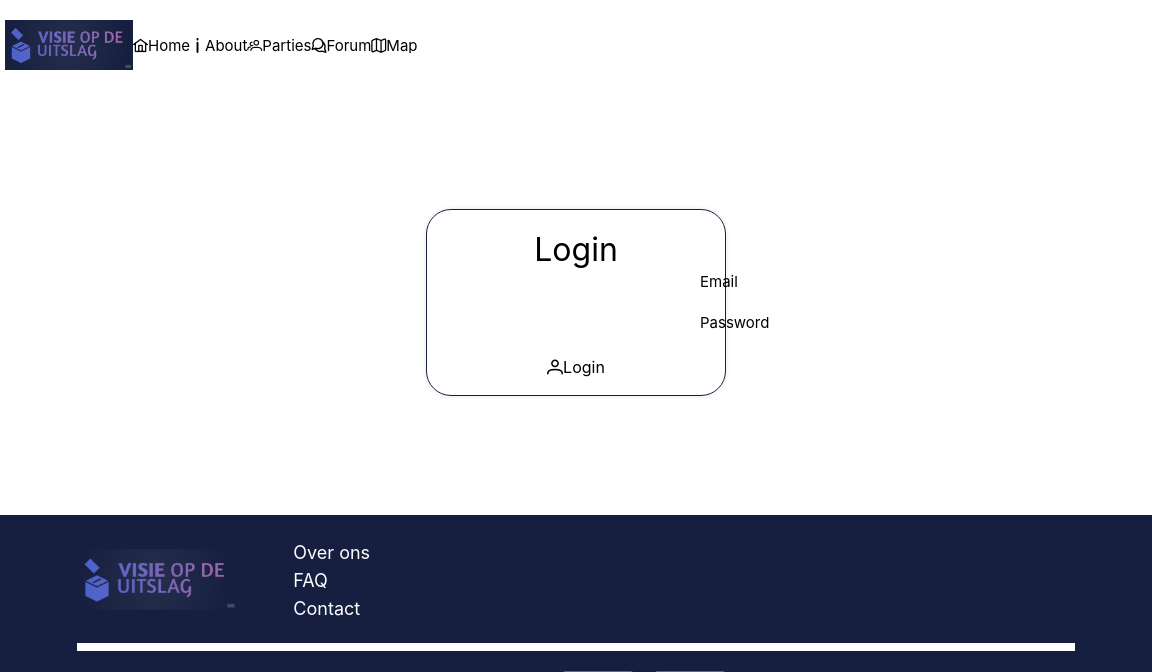
login page › should show a warning toast for unconfirmed accounts
The width and height of the screenshot is (1152, 672).
Type "nobody@example.com" into the field with test id "loginEmailInput" at (576, 286), box [452,274,700,298]
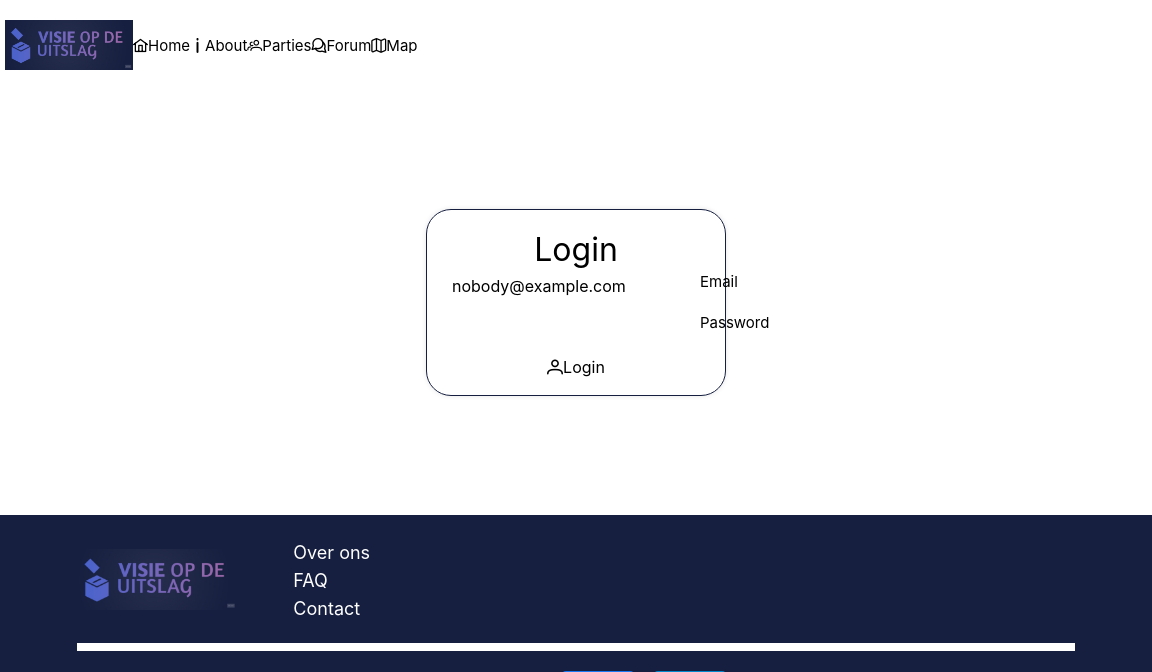
Type "password123" into the element with test id "loginPasswordInput" at (576, 327), box [452,315,700,339]
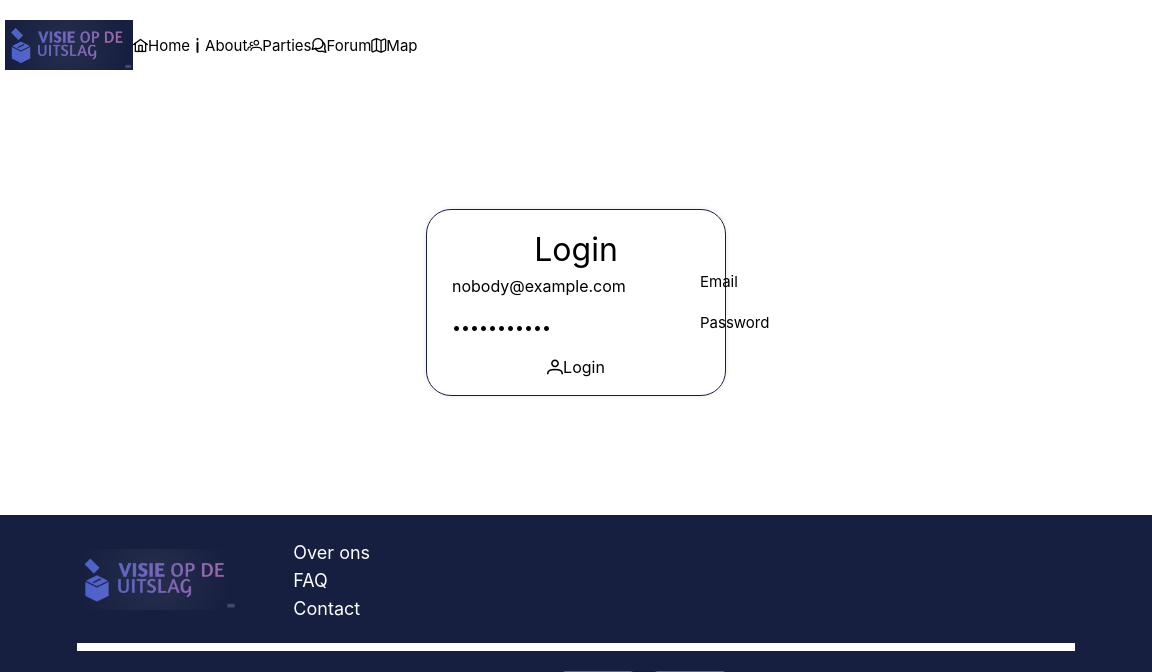
Click the button with test id "loginSubmit" at (576, 367), box [547,355,605,379]
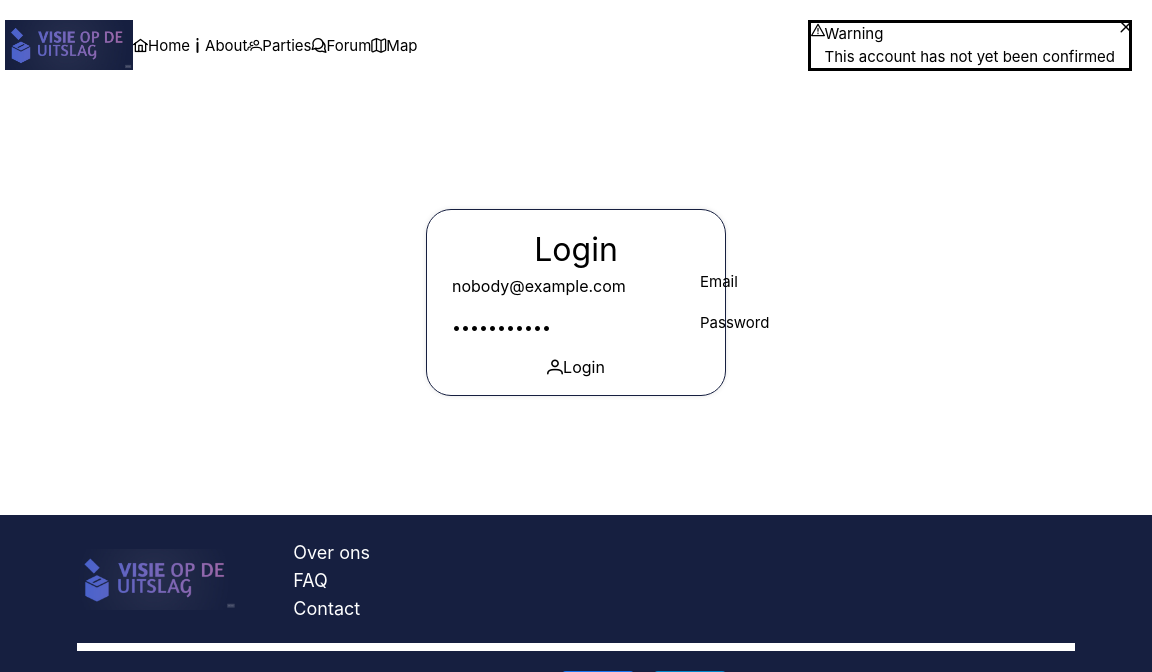
Result: the element showing "Warning This account has not yet been confirmed" is shown at [808,20,1132,87]
Result: the text "Warning" is shown at [824,24,883,43]
Result: the text "This account has not yet been confirmed" is shown at [824,46,1115,68]
